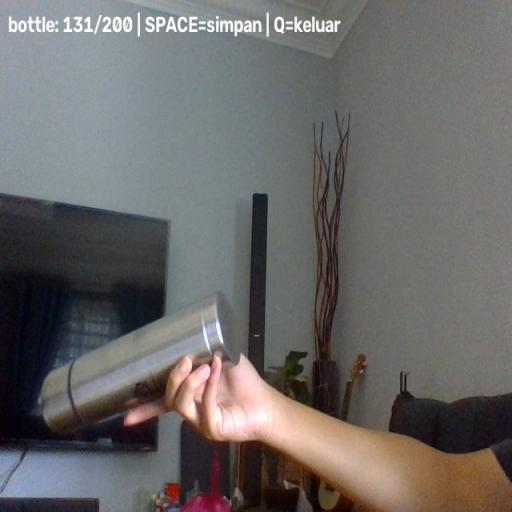Bottle: (39, 290, 242, 434)
